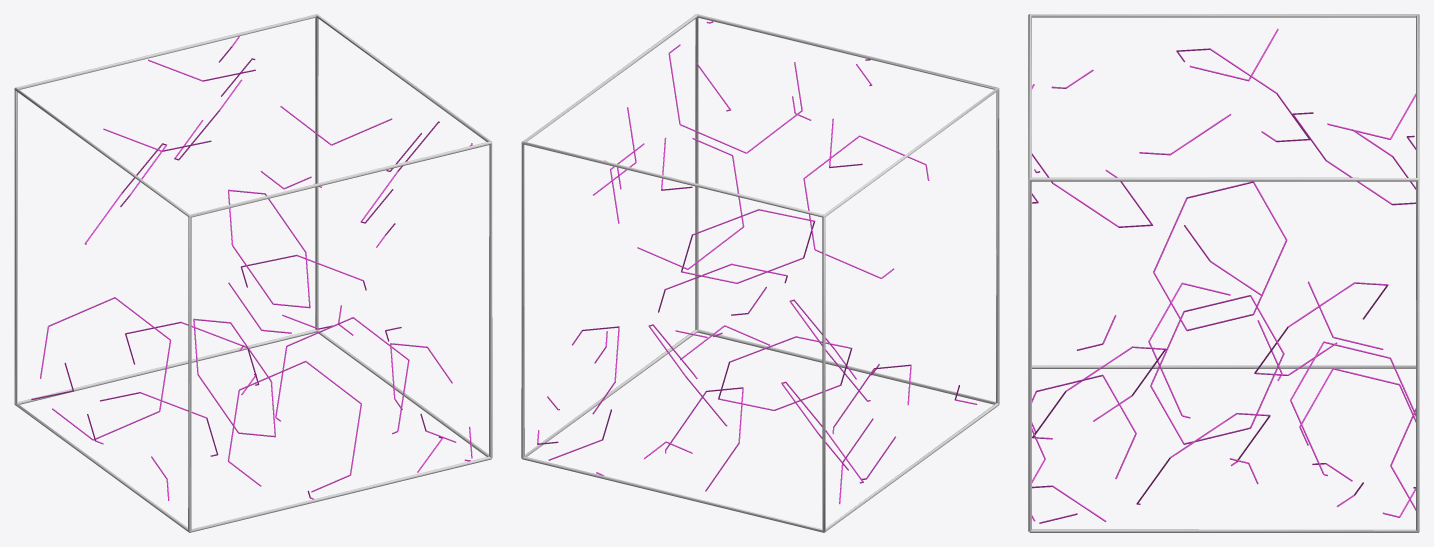
Rendered from DDD000.glb.
3 renders of one model, left to right at view 1: azimuth 30°, elevation 25°; view 2: azimuth 150°, elevation 25°; view 3: azimuth 270°, elevation 25°, orthographic. The views are drawn at different scales.
Visible parts, largest first — view 1: Shape_IndexedLineSet, Shape_IndexedLineSet.001; view 2: Shape_IndexedLineSet, Shape_IndexedLineSet.001; view 3: Shape_IndexedLineSet, Shape_IndexedLineSet.001.
Part boxes in pixels (<box>): Shape_IndexedLineSet: <box>14,14,492,532</box>; Shape_IndexedLineSet.001: <box>31,36,472,500</box>; Shape_IndexedLineSet: <box>521,14,999,532</box>; Shape_IndexedLineSet.001: <box>537,21,977,504</box>; Shape_IndexedLineSet: <box>1028,14,1419,532</box>; Shape_IndexedLineSet.001: <box>1032,28,1415,523</box>.
Size of the model in its own units: 10.1 by 10.1 by 10.1.
